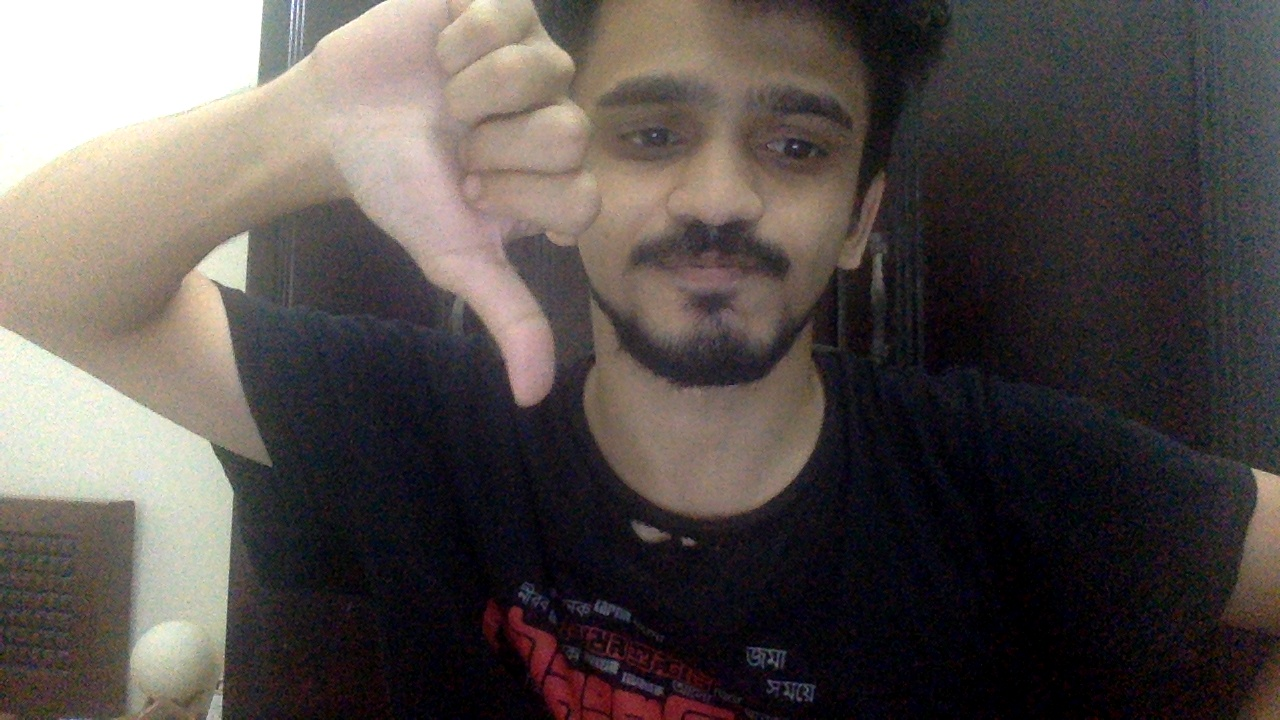bad: (314, 1, 602, 405)
